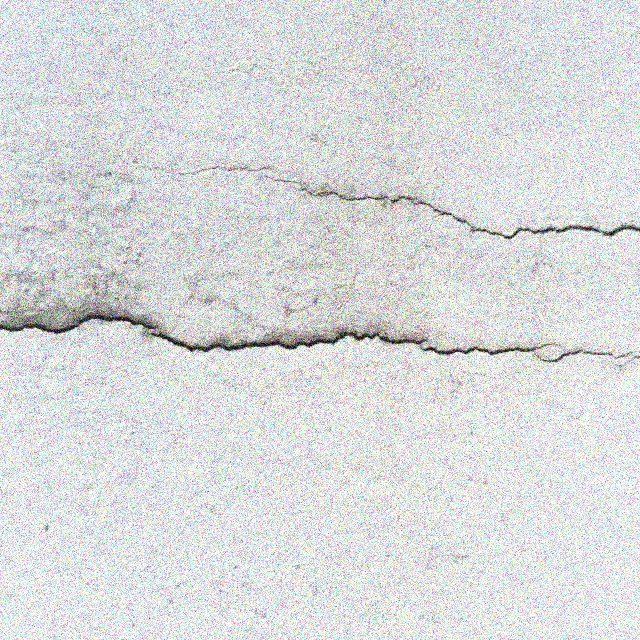SurfaceCrack: (0, 141, 639, 282), (1, 281, 640, 384)
